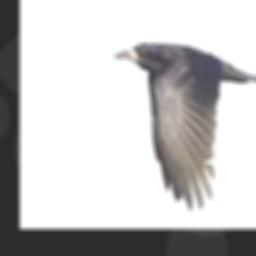Crow: (112, 42, 256, 208)
